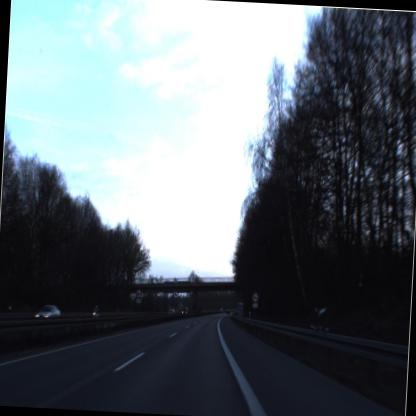prohibitory: (249, 288, 262, 304), (133, 286, 143, 300)
